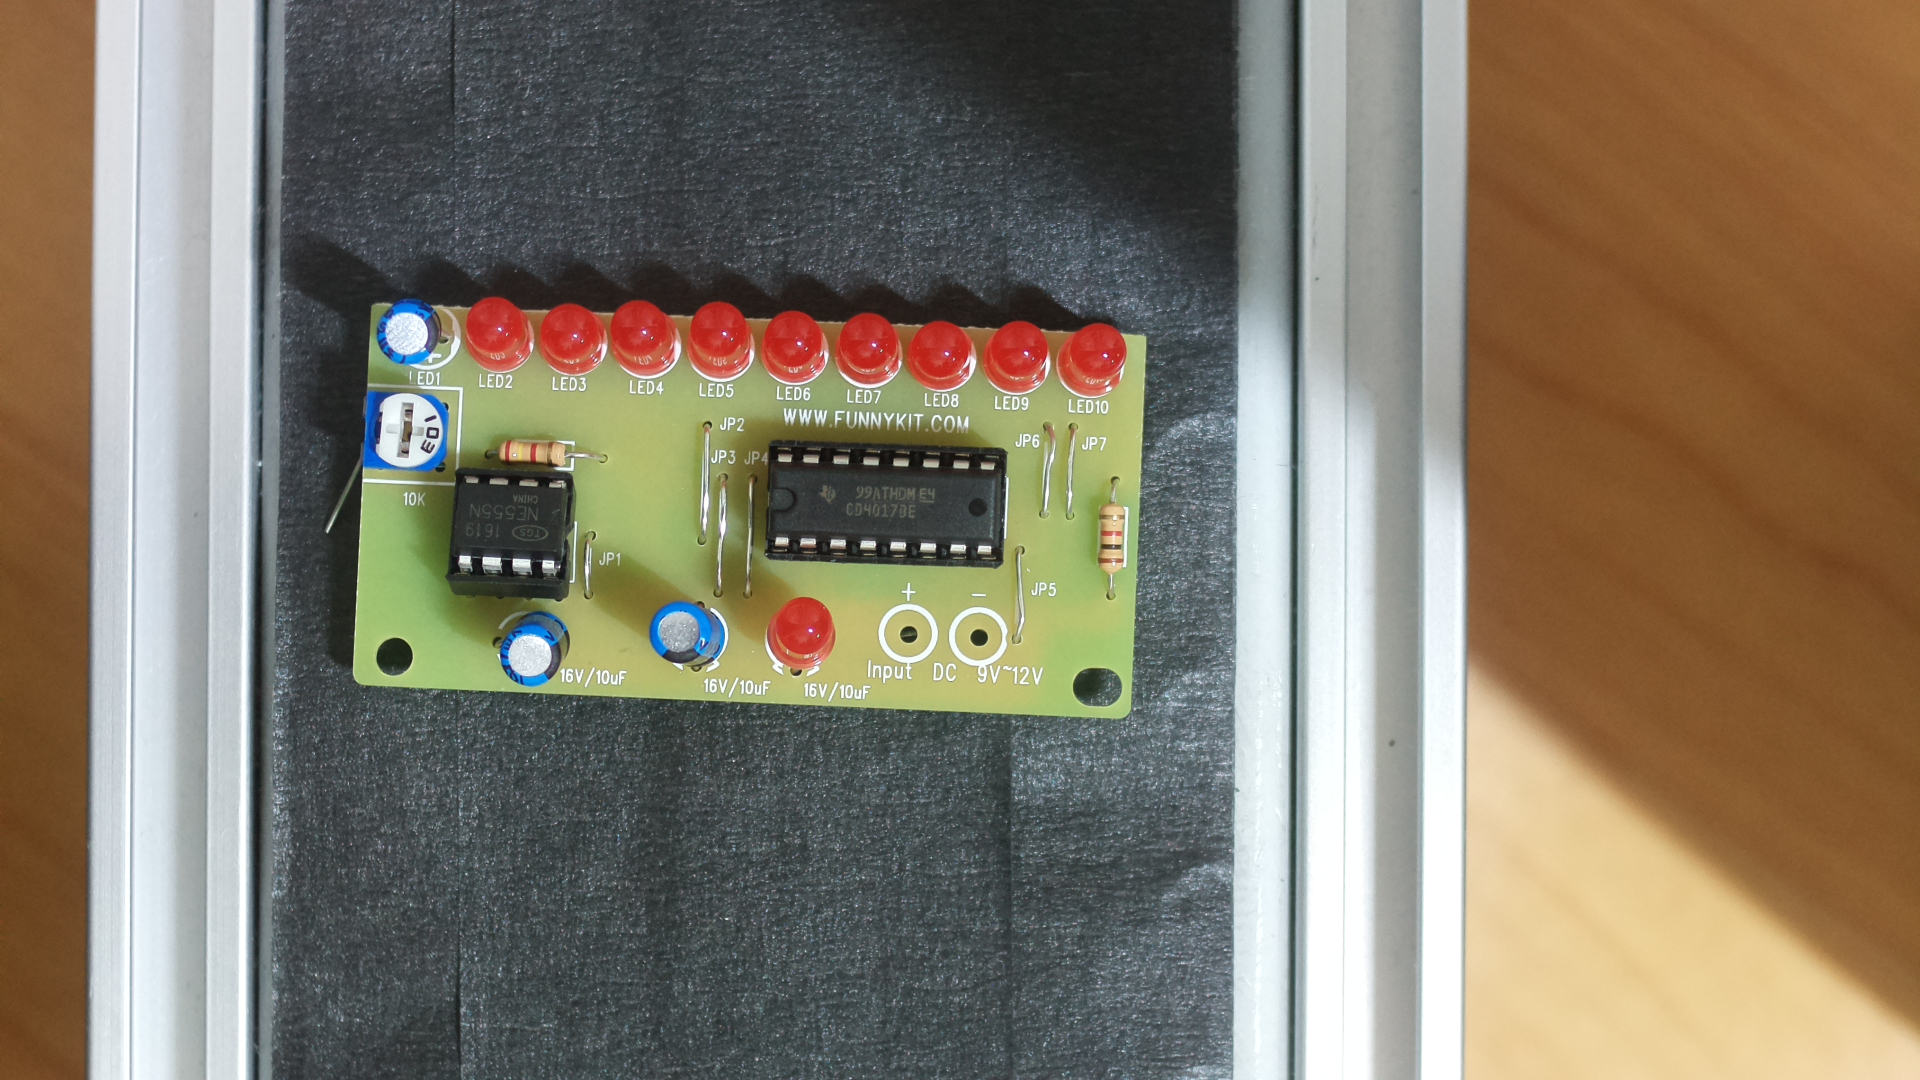B_Misordered: (356, 272, 1158, 737)
